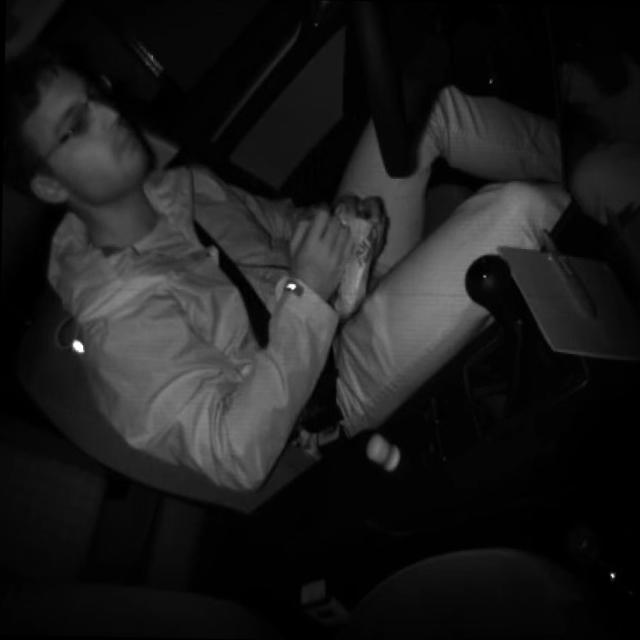pen: (537, 226, 601, 325)
